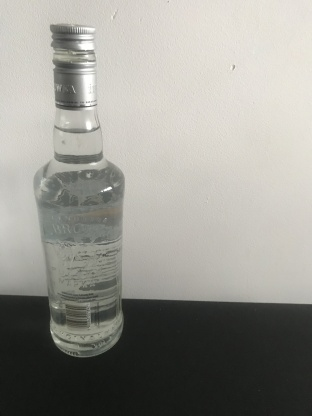nakretka: (48, 20, 99, 110)
